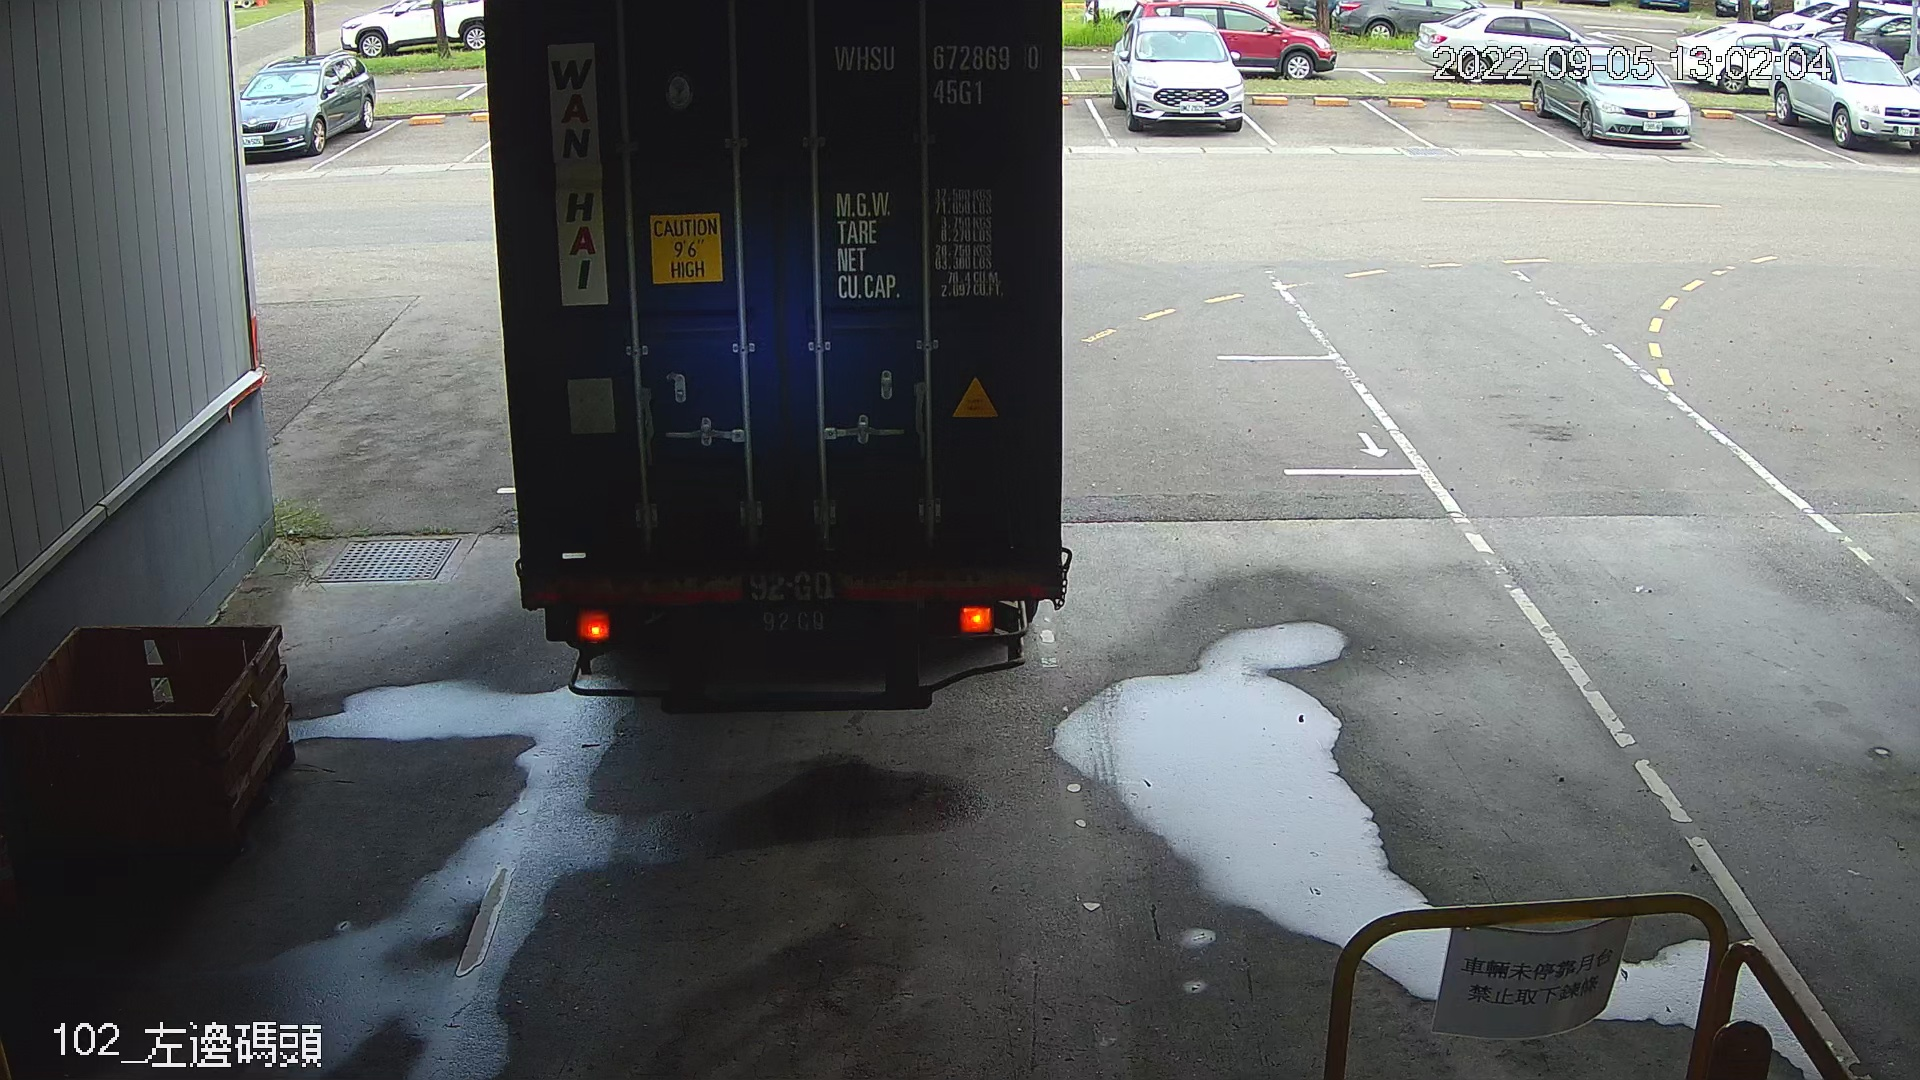container: (820, 29, 1054, 111)
